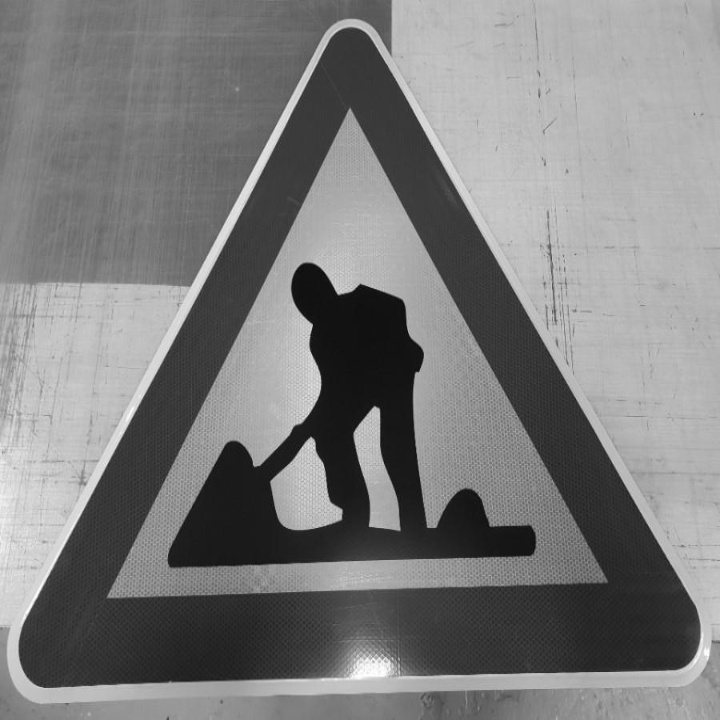const: (126, 232, 568, 609)
